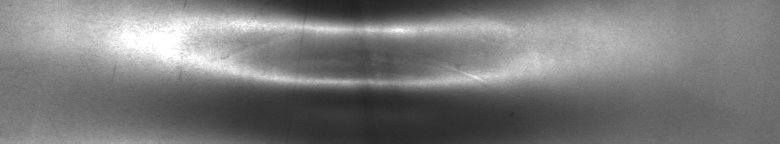ke: (157, 4, 576, 136)
